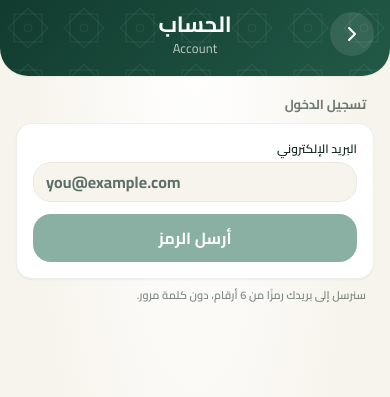
Test: verifying the code › only 6 digits are accepted in the field; the button waits for all 6
Type "user@example.com" into the field labelled "البريد الإلكتروني" at (195, 182), box [33, 162, 357, 202]
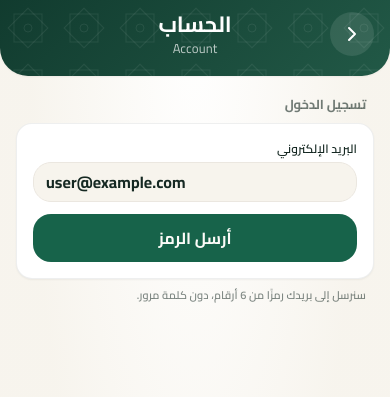
Click the button "أرسل الرمز" at (195, 238), box [33, 214, 357, 262]
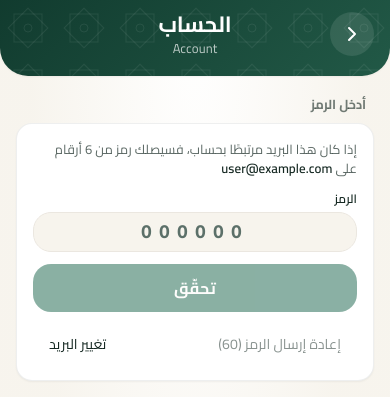
Now the field labelled "الرمز" is shown
Type "12a 3-45" into the field labelled "الرمز" at (195, 232), box [33, 212, 357, 252]
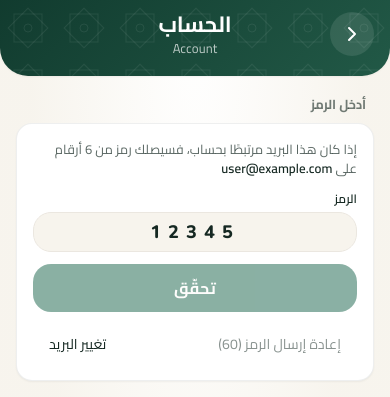
Now the button "تحقّق" is disabled, box [33, 264, 357, 312]
Now the field labelled "الرمز" holds "12345"
Replace the text in the field labelled "الرمز" with "1234567" at (195, 232), box [33, 212, 357, 252]
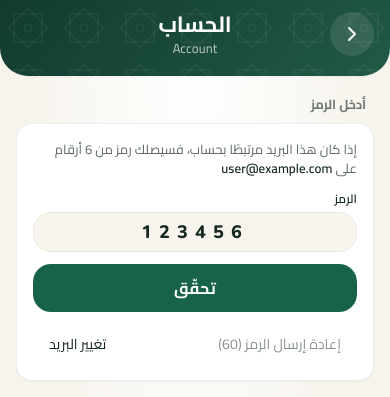
Now the field labelled "الرمز" holds "123456", box [33, 212, 357, 252]
Now the button "تحقّق" is enabled, box [33, 264, 357, 312]
